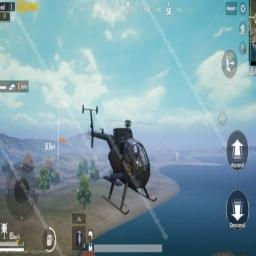helicopter: (83, 105, 166, 218)
